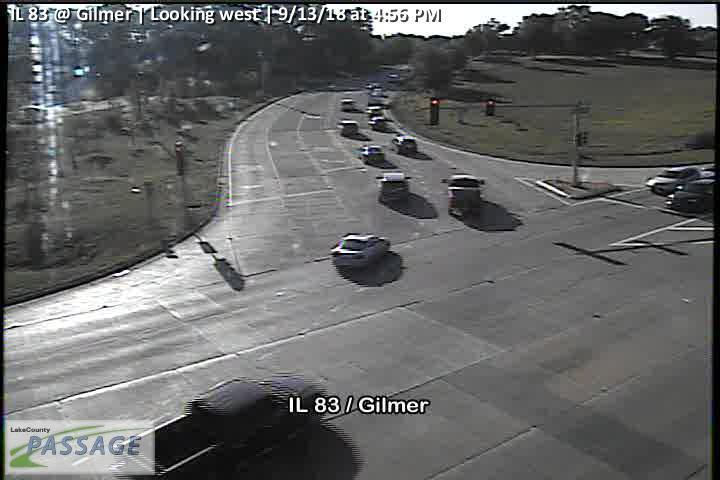SUV: (663, 177, 719, 213), (644, 164, 701, 197), (359, 143, 384, 163), (392, 135, 417, 154), (338, 119, 361, 135), (368, 115, 386, 131), (341, 97, 354, 112), (368, 104, 383, 117)
Sedan: (329, 232, 392, 271), (440, 171, 486, 217), (376, 170, 411, 204)
Truck: (48, 370, 328, 480)
